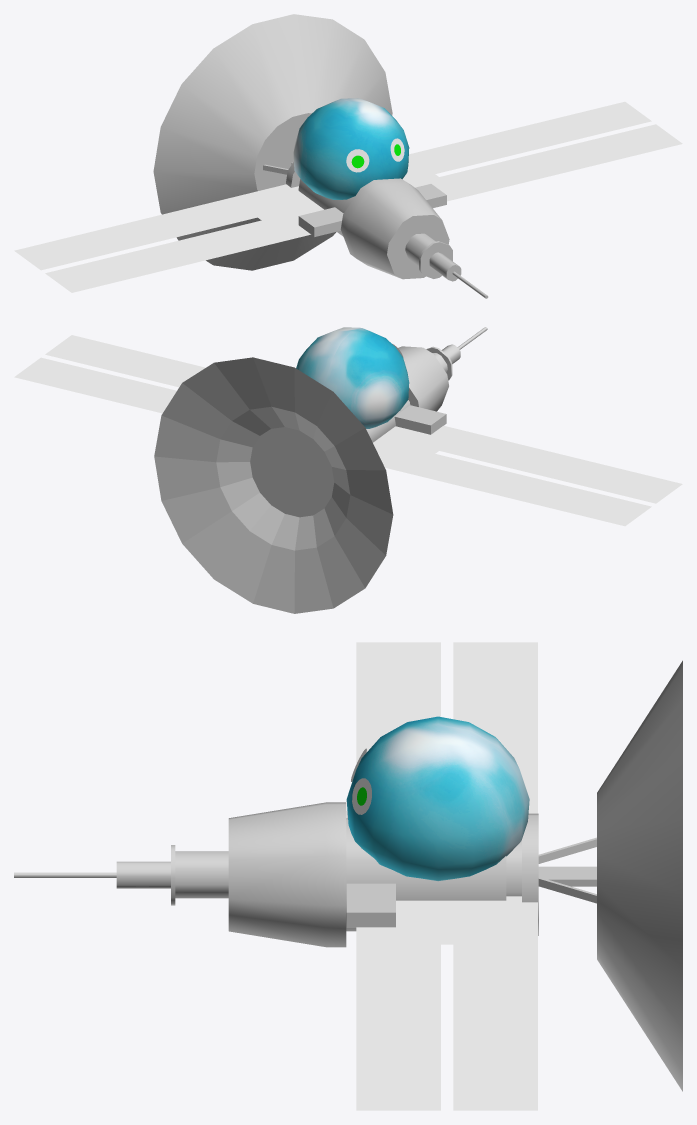
File: スライム衛星.FBX
3 views of the same model, one above another, from view 1: azimuth 30°, elevation 25°; view 2: azimuth 150°, elevation 25°; view 3: azimuth 270°, elevation 25° (orthographic). The views are drawn at different scales.
Parts seen in each view (by area): view 1: Slime_body001; view 2: Slime_body001; view 3: Slime_body001.
Boxes of the visible parts, x1,y1,x2,y2 form: Slime_body001: (14, 14, 682, 298); Slime_body001: (14, 327, 682, 613); Slime_body001: (14, 642, 682, 1110).
Bounding box in the file's own units: 23.19 × 8.94 × 14.
